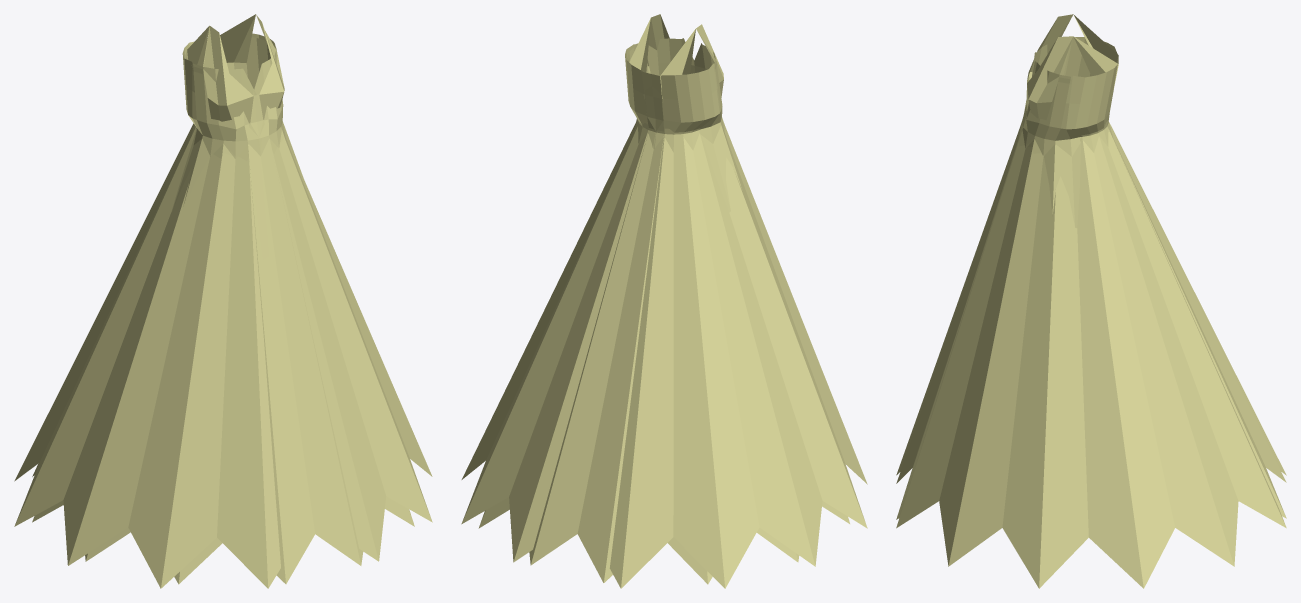
The model's file is vestido1.glb.
3 views of the same model, side by side, from view 1: azimuth 30°, elevation 25°; view 2: azimuth 150°, elevation 25°; view 3: azimuth 270°, elevation 25° (orthographic). The views are drawn at different scales.
Visible parts, largest first — view 1: Círculo; view 2: Círculo; view 3: Círculo.
Boxes of the visible parts, x1=… form: Círculo: x1=14, y1=14, x2=432, y2=588; Círculo: x1=461, y1=14, x2=867, y2=588; Círculo: x1=896, y1=14, x2=1286, y2=588.
Bounding box in the file's own units: 1.19 × 1.53 × 1.14.
